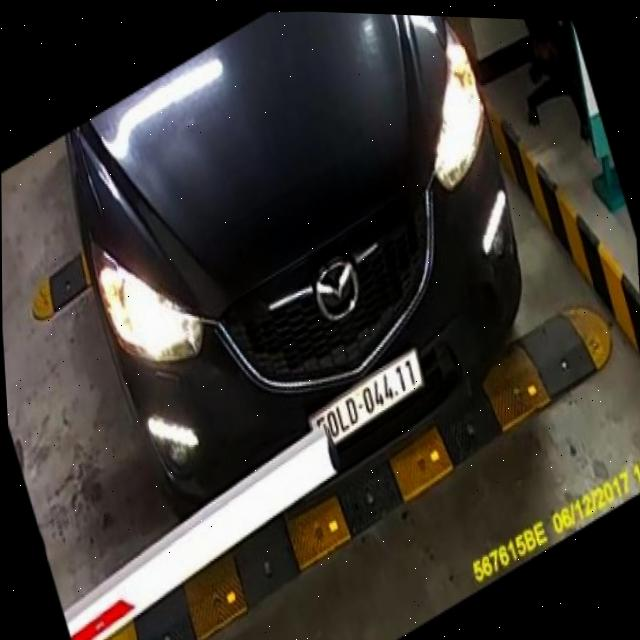car: (60, 2, 541, 539)
plate: (303, 341, 433, 456)
